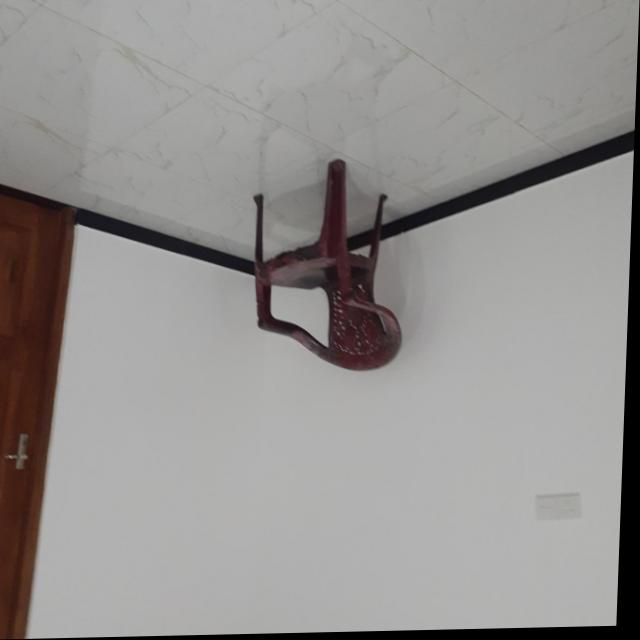Chair: (250, 157, 410, 376)
